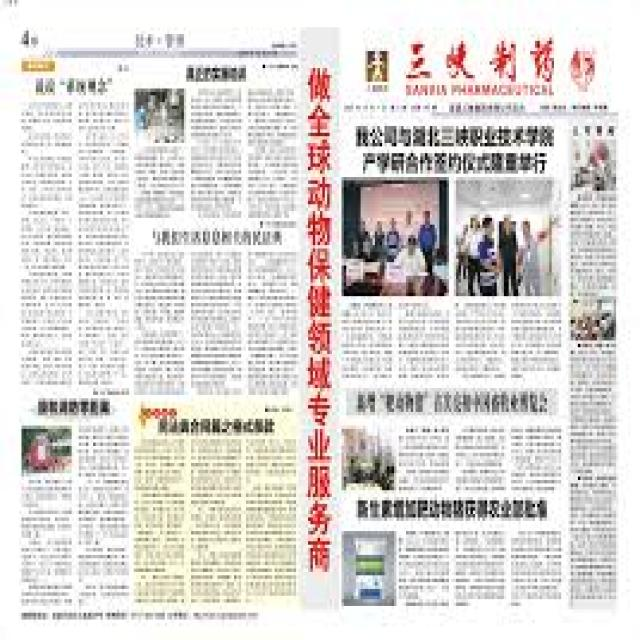paper: (3, 20, 624, 599)
